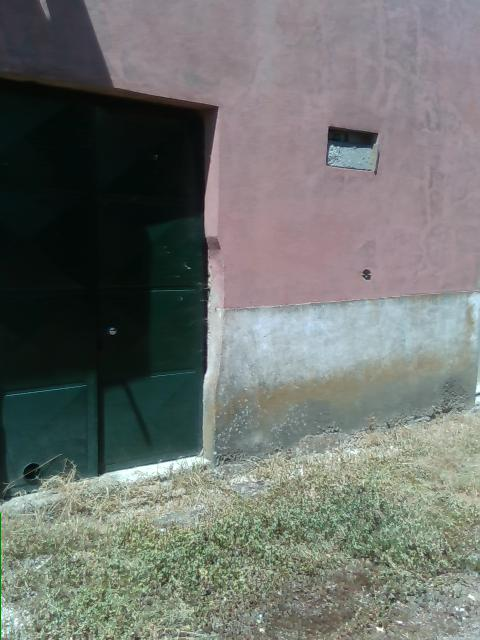door: (0, 72, 219, 509)
